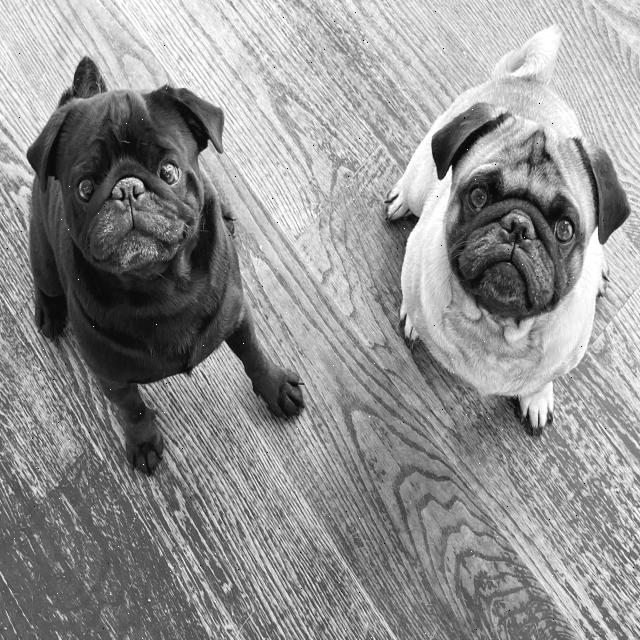pug_dog: (413, 102, 633, 332), (20, 79, 230, 298)
